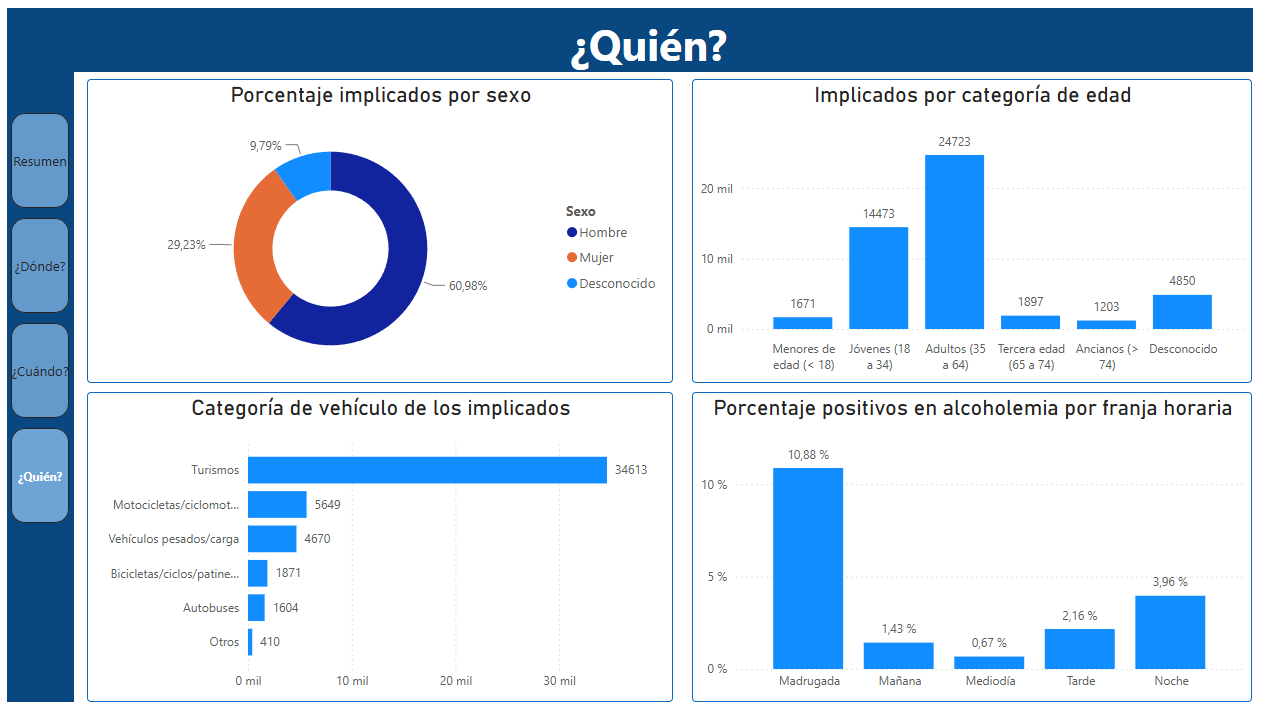

What the dashboard file says about the page in this screenshot:
{"tool":"powerbi","page":{"name":"¿Quién?","canvas":[1280,720],"ordinal":3},"visuals":[{"type":"shape","box":[16,13,67,694],"z":0},{"type":"shape","box":[82.7,12.6,1178.8,64.2],"z":1000},{"type":"clusteredColumnChart","title":"Implicados por categoría de edad","fields":{"Y":["_Medidas.Total implicados"],"Category":["Personas.categoria_edad"]},"box":[701.1,83.6,560.1,304.1],"z":3000},{"type":"clusteredBarChart","title":"Categoría de vehículo de los implicados","fields":{"Category":["Personas.categoria_vehiculo"],"Y":["_Medidas.Total implicados"]},"box":[96.1,397.1,586.2,310.3],"z":4000},{"type":"clusteredColumnChart","title":"Porcentaje positivos en alcoholemia por franja horaria","fields":{"Category":["Accidentes.franja_horaria"],"Y":["_Medidas.Porcentaje personas con positivo"]},"box":[701.1,397.1,560.1,310.3],"z":5000},{"type":"donutChart","title":"Porcentaje implicados por sexo","fields":{"Category":["Personas.sexo"],"Y":["_Medidas.Total implicados"]},"box":[96.1,83.6,586.2,304.1],"z":6000},{"type":"textbox","box":[509.9,15.1,299,70.9],"z":6002},{"type":"pageNavigator","title":"Visión general","box":[20,118,58,412],"z":6003}]}

Visuals, with their boxes in screenshot pixels (x1, y1, x2, y2), scaled from the page's 1280x720 canvas onto the 1265x713 screenshot:
shape: left=16, top=13, right=82, bottom=700
shape: left=82, top=12, right=1247, bottom=76
"Implicados por categoría de edad" clusteredColumnChart: left=693, top=83, right=1246, bottom=384
"Categoría de vehículo de los implicados" clusteredBarChart: left=95, top=393, right=674, bottom=701
"Porcentaje positivos en alcoholemia por franja horaria" clusteredColumnChart: left=693, top=393, right=1246, bottom=701
"Porcentaje implicados por sexo" donutChart: left=95, top=83, right=674, bottom=384
textbox: left=504, top=15, right=799, bottom=85
"Visión general" pageNavigator: left=20, top=117, right=77, bottom=525
